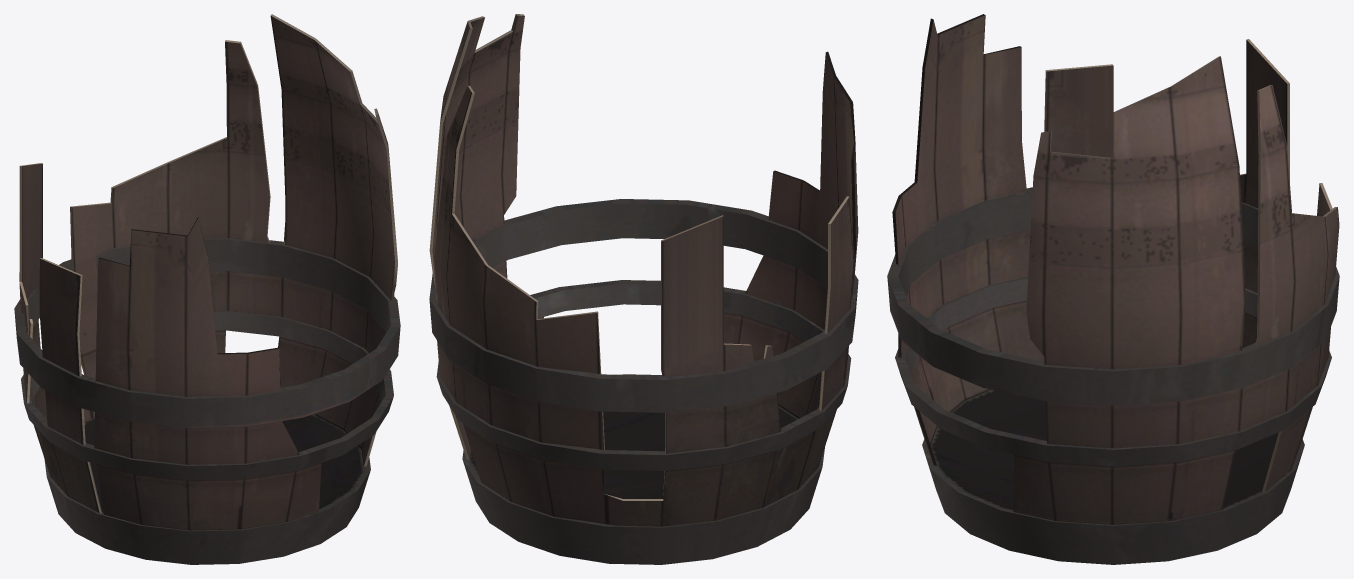
File: wooden_barrel_break02.glb
3 renders of one model, left to right at view 1: azimuth 30°, elevation 25°; view 2: azimuth 150°, elevation 25°; view 3: azimuth 270°, elevation 25°, orthographic. The views are drawn at different scales.
Parts seen in each view (by area): view 1: wooden_barrel_break02; view 2: wooden_barrel_break02; view 3: wooden_barrel_break02.
Part boxes in pixels (x1,y1,x2,y2): wooden_barrel_break02: [14, 14, 400, 564]; wooden_barrel_break02: [429, 14, 858, 564]; wooden_barrel_break02: [887, 14, 1339, 564].
Bounding box in the file's own units: 0.8845 × 1.07 × 0.8845.
1 material, 1 textured.
